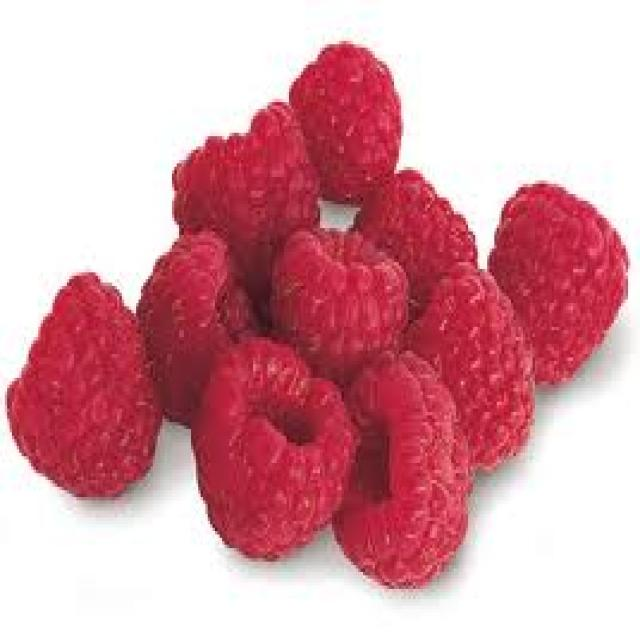raspberry: (0, 27, 638, 606)
